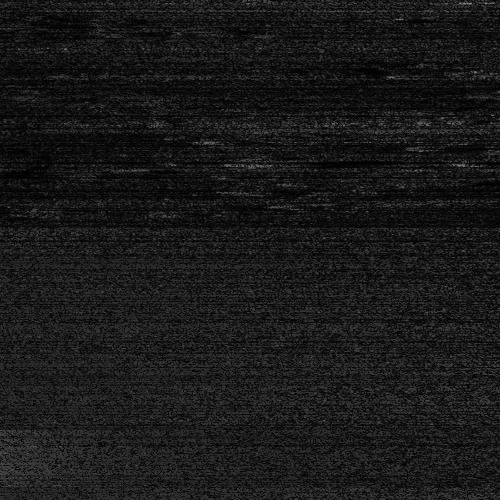object: (236, 157, 329, 166), (387, 144, 428, 147)
shadow: (283, 157, 357, 166), (408, 144, 470, 147)
